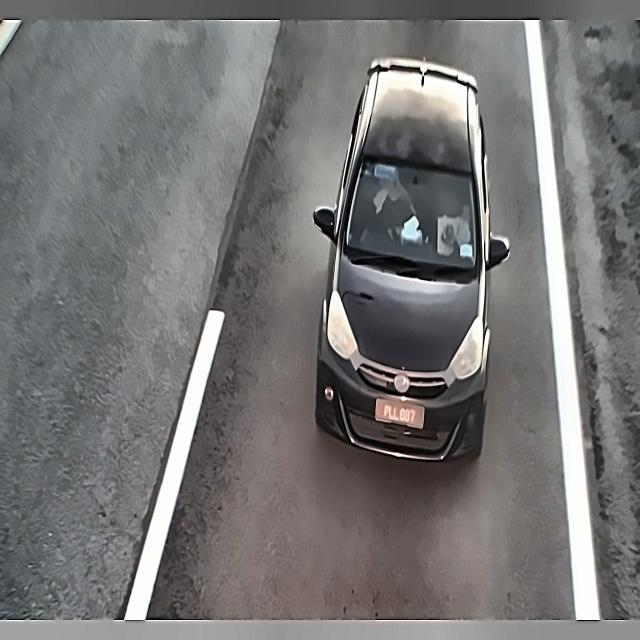car: (370, 390, 431, 436)
